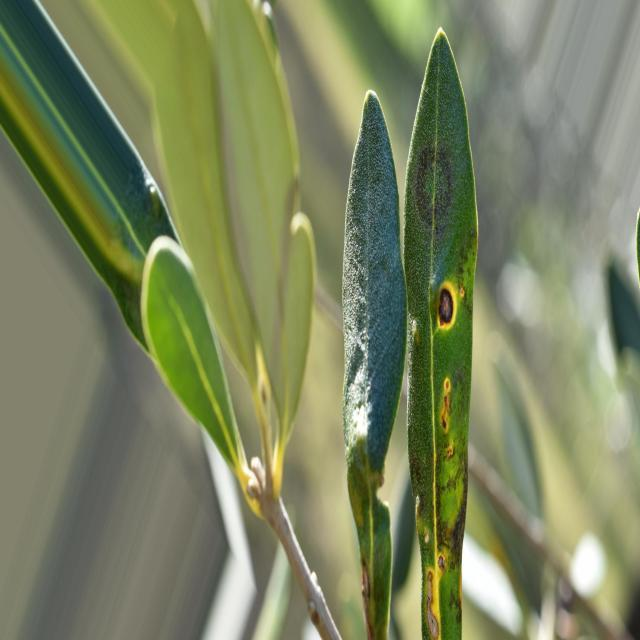OlivePeacockSpot: (403, 28, 478, 640), (342, 90, 408, 640)
